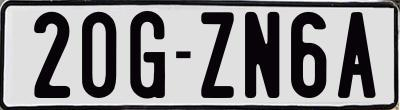0: (80, 12, 119, 102)
2: (34, 9, 75, 97)
6: (291, 10, 328, 99)
A: (335, 10, 376, 98)
G: (130, 10, 166, 102)
N: (242, 9, 278, 100)
Z: (201, 11, 239, 98)
